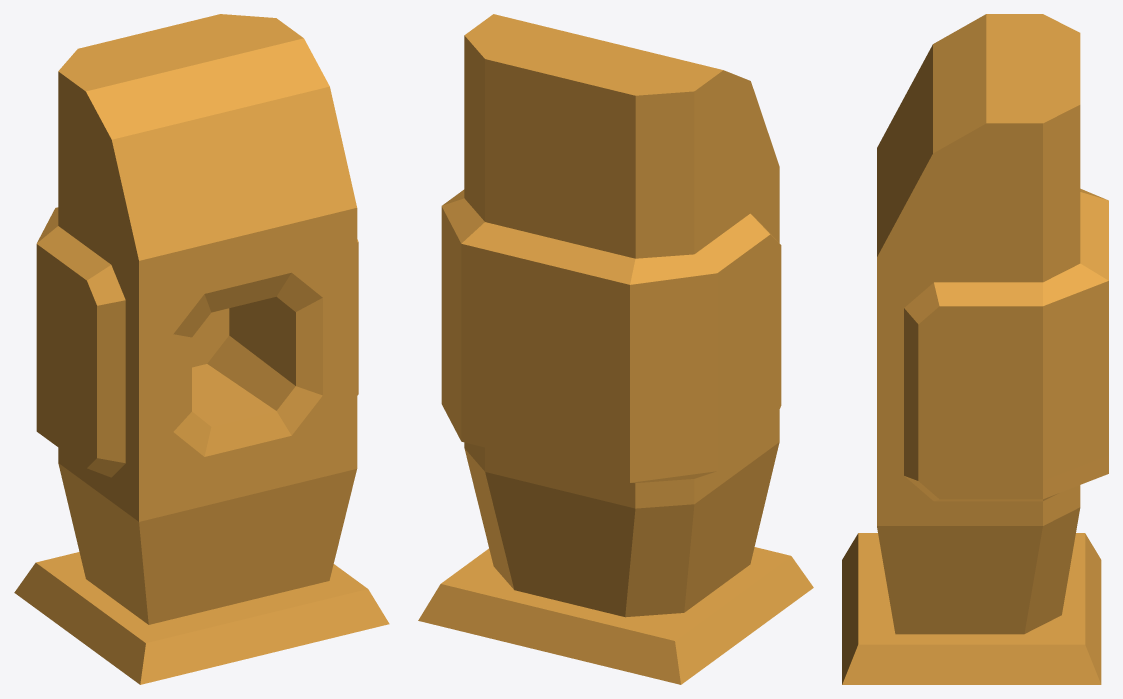
Rendered from scifi-chemistry-lab.fbx.
3 renders of one model, left to right at view 1: azimuth 30°, elevation 25°; view 2: azimuth 150°, elevation 25°; view 3: azimuth 270°, elevation 25°, orthographic. The views are drawn at different scales.
Visible parts, largest first — view 1: scifi-chemistry-lab; view 2: scifi-chemistry-lab; view 3: scifi-chemistry-lab.
Boxes of the visible parts, bbox=[...] form: scifi-chemistry-lab: bbox=[14, 14, 389, 684]; scifi-chemistry-lab: bbox=[418, 14, 813, 684]; scifi-chemistry-lab: bbox=[842, 14, 1108, 684].
Size of the model in its own units: 0.8389 by 1.65 by 0.7205.
